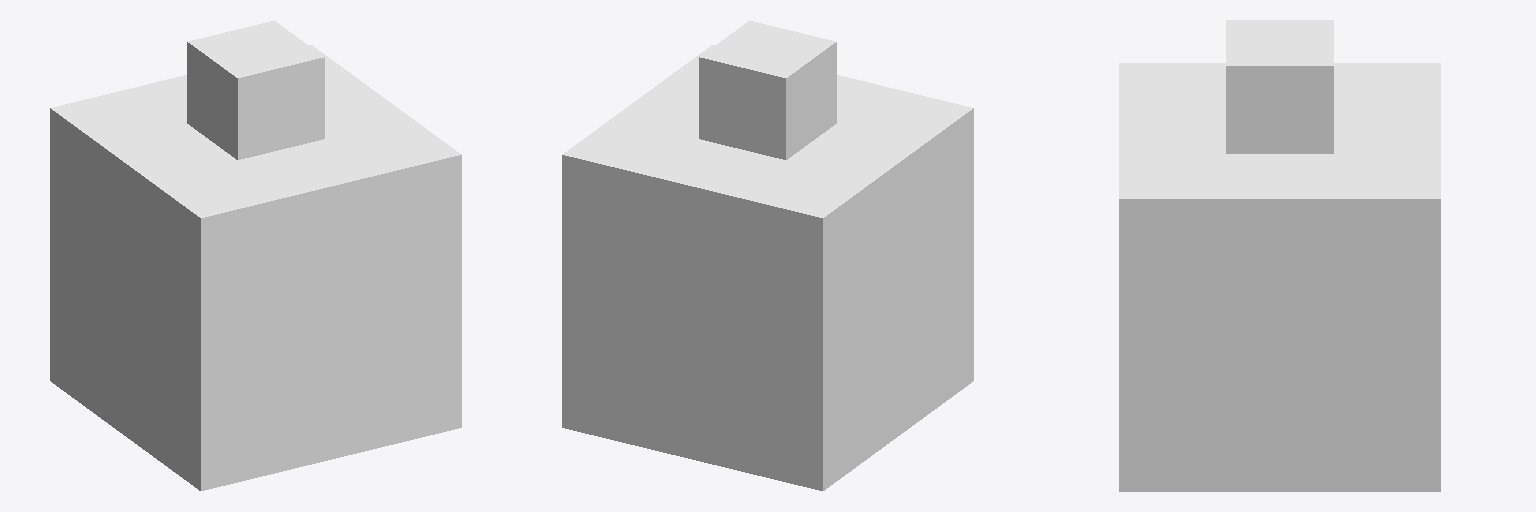
The robot description file, URDF, robot "box":
<robot name="box">
  <link name="base_link">
    <visual>
      <origin xyz="0 0 0" rpy="0 0 0" />
      <geometry>
        <mesh filename="package://hpp-rbprm-corba/meshes/robot_box.stl"/>
      </geometry>
      <material name="white">
        <color rgba="1 1 1 1"/>
      </material>
    </visual>
    <collision>
      <origin xyz="0 0 0" rpy="0 0 0" />
      <geometry>
        <mesh filename="package://hpp-rbprm-corba/meshes/box.stl"/>
      </geometry>
    </collision>
  </link>
</robot>

--- Render facts (derived) ---
The picture shows the robot from 3 angles, left to right: view 1: azimuth 30°, elevation 25°; view 2: azimuth 150°, elevation 25°; view 3: azimuth 270°, elevation 25°; orthographic projection.
Robot: box — 1 links, 0 joints (none); root link base_link; default pose: every joint at zero.
Links seen in each view (by area): view 1: base_link; view 2: base_link; view 3: base_link.
Boxes of the visible links, bbox=[...] form: base_link: bbox=[50, 21, 461, 490]; base_link: bbox=[562, 21, 973, 490]; base_link: bbox=[1119, 20, 1440, 491].
Size in the robot's own frame: 0.3 by 0.3 by 0.39 metres.
1 mesh visuals loaded from 1 distinct referenced files (1 binary STL).